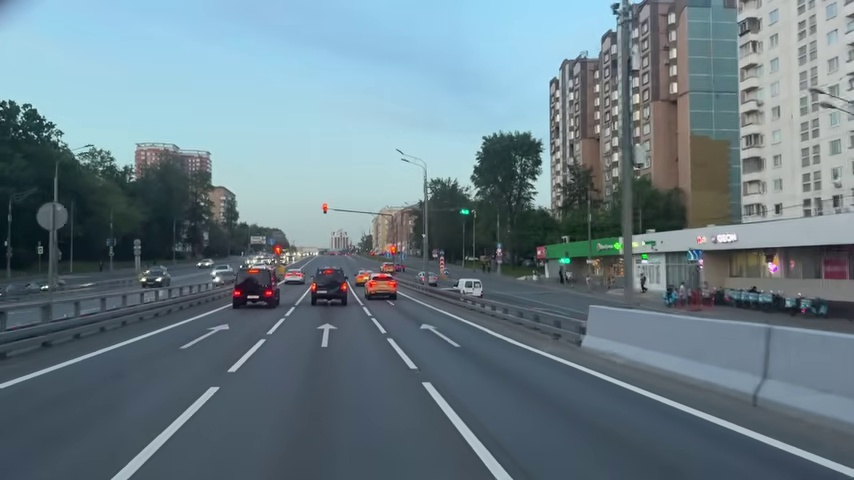apagada: (393, 147, 411, 167)
